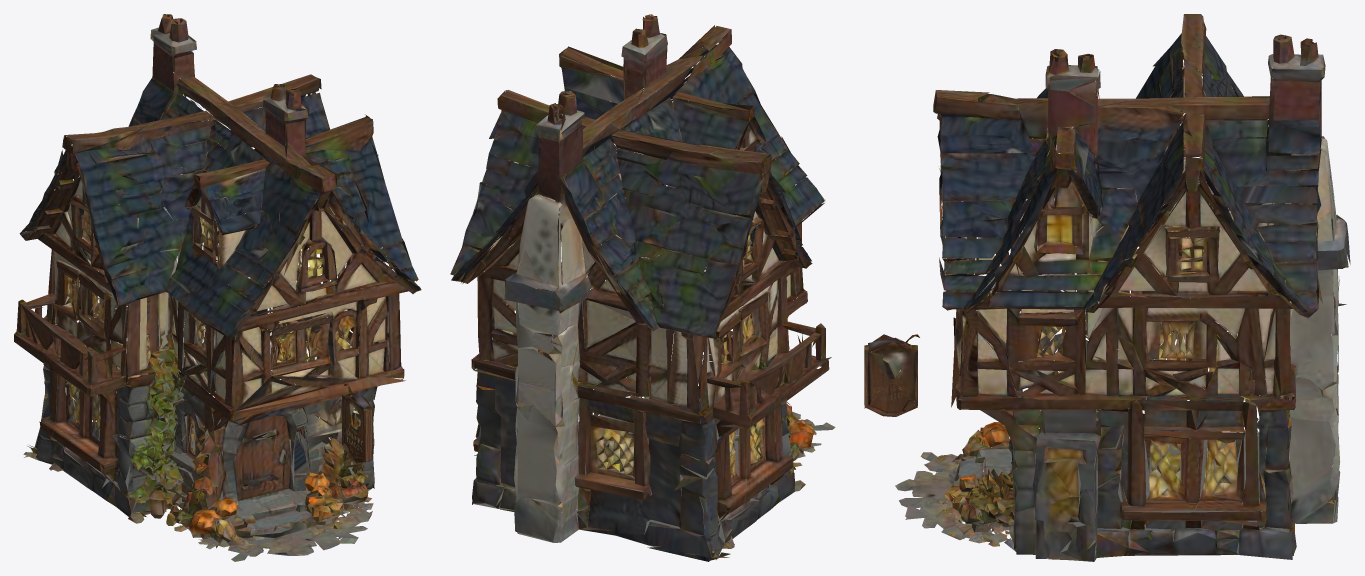
The model's file is tavern.glb.
3 renders of one model, left to right at view 1: azimuth 30°, elevation 25°; view 2: azimuth 150°, elevation 25°; view 3: azimuth 270°, elevation 25°, orthographic. The views are drawn at different scales.
Parts seen in each view (by area): view 1: Mesh_0; view 2: Mesh_0; view 3: Mesh_0.
Part boxes in pixels (left/top/right/bottom): Mesh_0: left=14, top=14, right=421, bottom=561; Mesh_0: left=450, top=14, right=835, bottom=561; Mesh_0: left=864, top=14, right=1350, bottom=561.
Bounding box in the file's own units: 1.34 × 1.93 × 1.78.
Materials: 1 (1 with a texture image).
